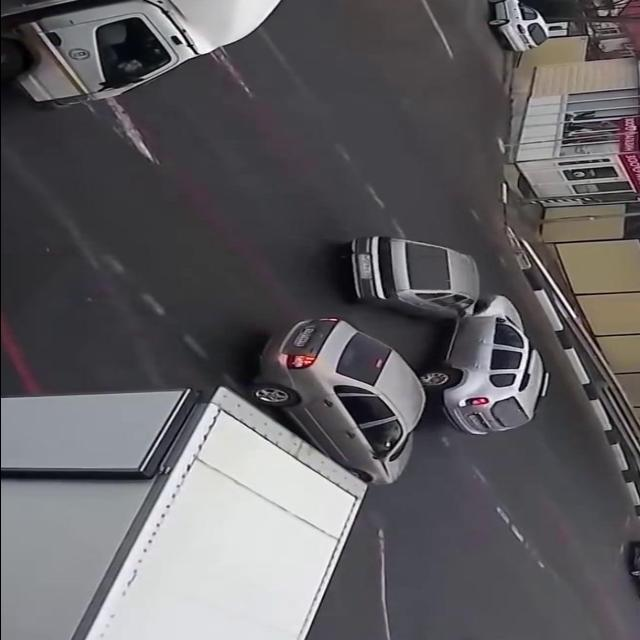accident: (327, 227, 557, 441)
